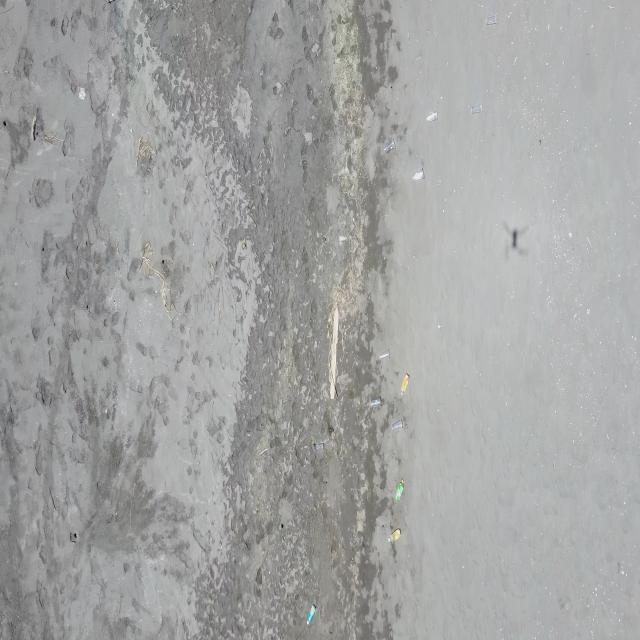plastic-bottle: (394, 480, 404, 502), (306, 604, 316, 626), (400, 374, 410, 396), (389, 528, 401, 543)
takeaway-cup: (426, 108, 438, 123), (384, 139, 396, 153), (369, 396, 382, 408), (392, 419, 404, 432), (378, 348, 389, 362), (414, 167, 424, 182), (471, 102, 482, 115), (314, 443, 324, 456), (486, 14, 497, 25)
